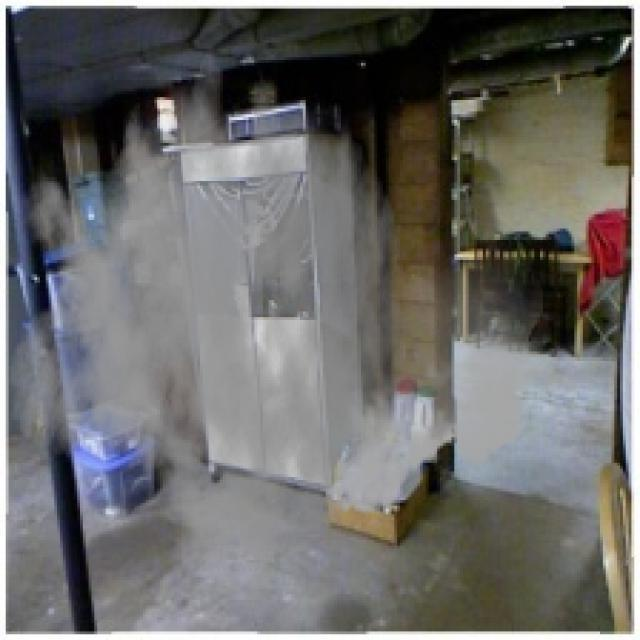Smoke: (6, 20, 552, 586)
